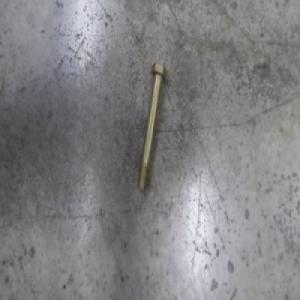Bolt: (137, 61, 168, 192)
